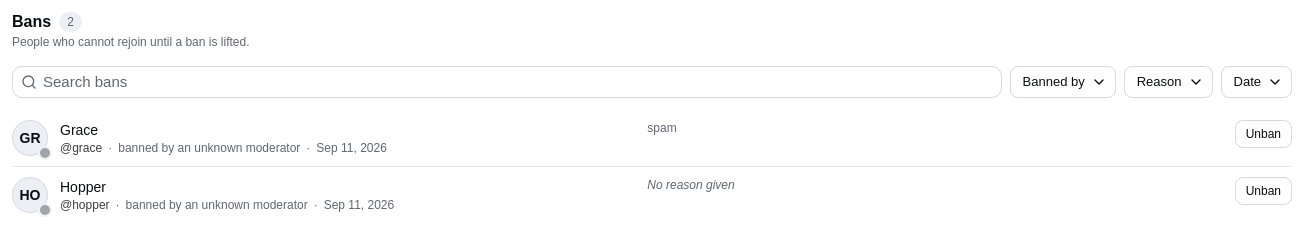
Scenario: BansPage › searches the banned person and the reason alike
Check: the text "Grace" is shown, box x1=60 y1=122 x2=98 y2=138
Type "hopper" into the dropdown named "Search bans by @username, name or reason" at (519, 82), box x1=41 y1=67 x2=996 y2=97
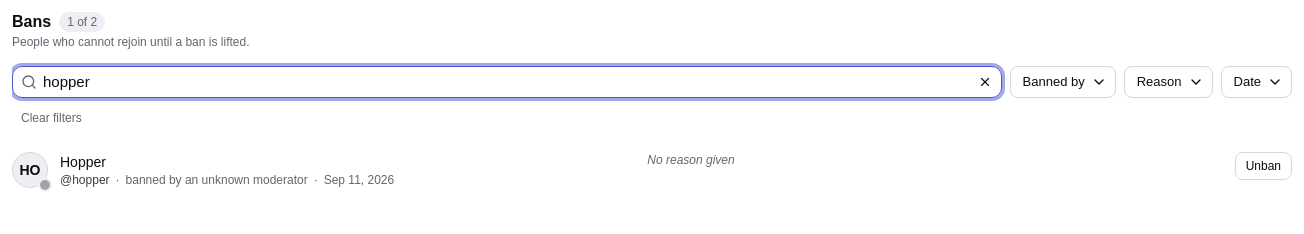
Check: the text "Hopper" is shown, box x1=60 y1=154 x2=106 y2=170
Check: the text "Grace" is gone
Clear the dropdown named "Search bans by @username, name or reason" at (505, 82), box x1=41 y1=67 x2=968 y2=97
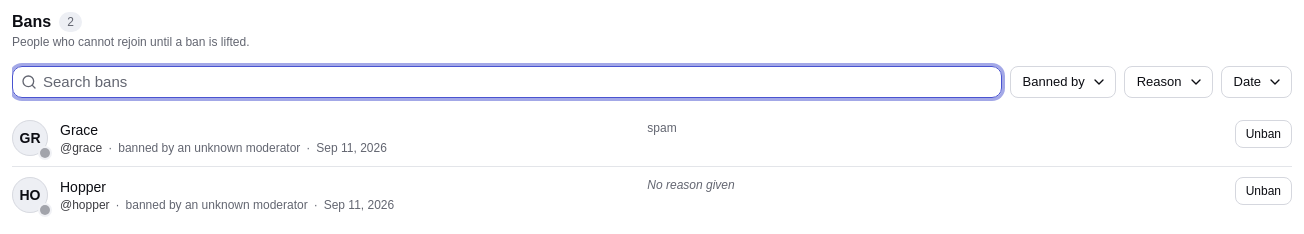
Type "spam" into the dropdown named "Search bans by @username, name or reason" at (519, 82), box x1=41 y1=67 x2=996 y2=97
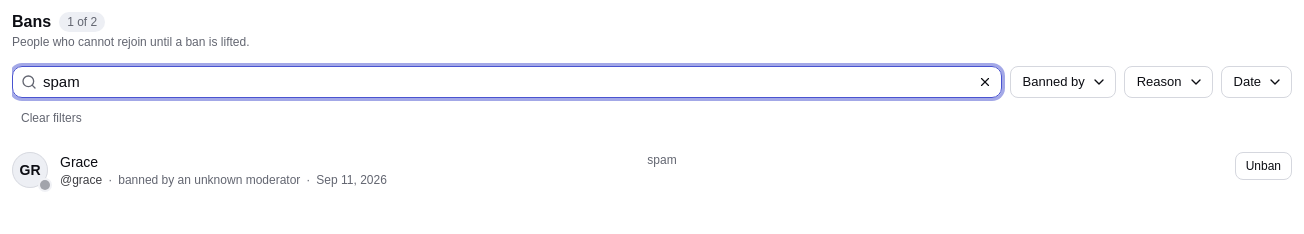
Check: the text "Grace" is shown, box x1=60 y1=154 x2=98 y2=170
Check: the text "Hopper" is gone
